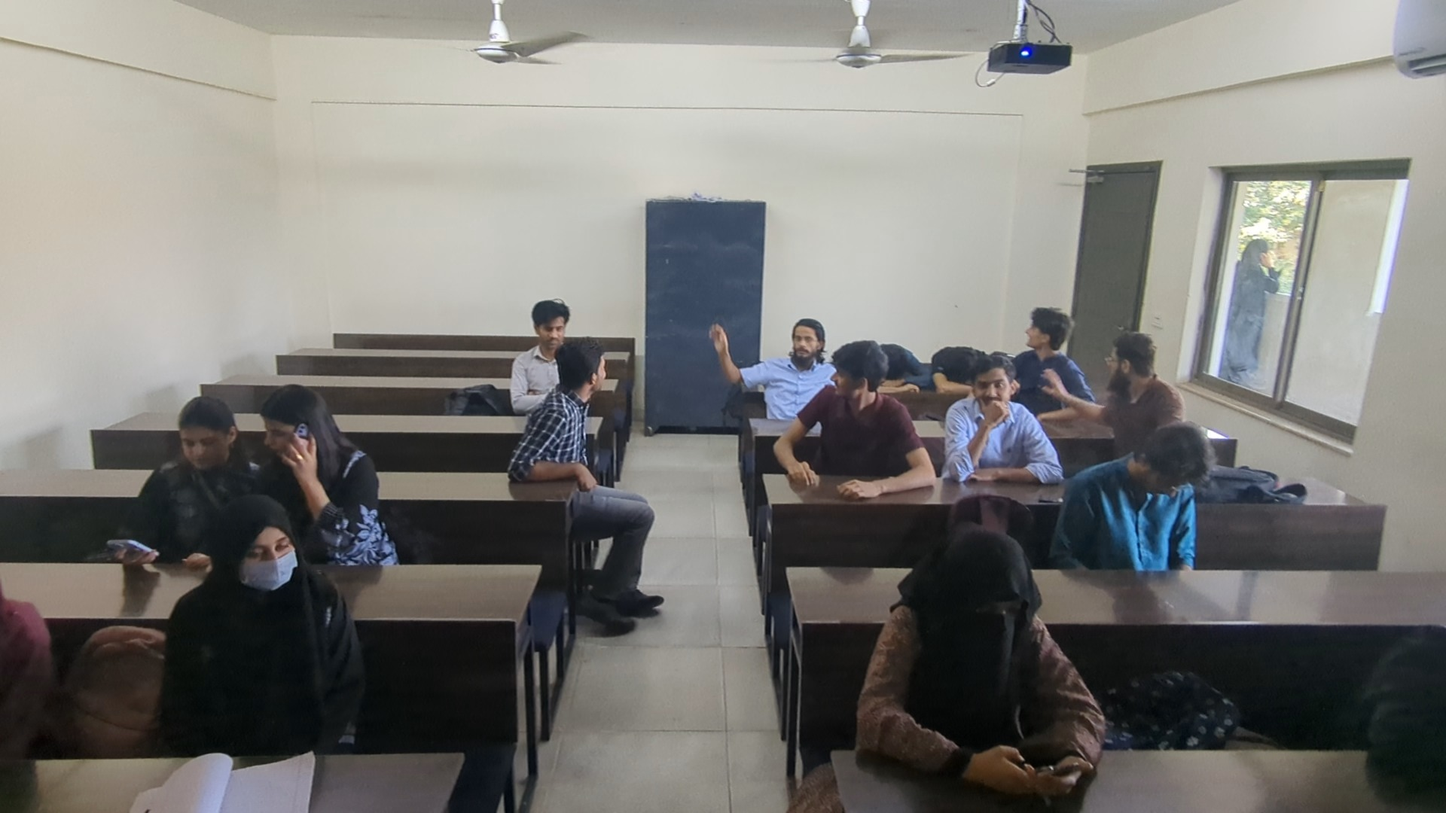handrise: (706, 308, 837, 426)
look_forward: (938, 354, 1065, 481)
sleep: (928, 336, 984, 389), (882, 333, 930, 389)
turn_head: (158, 491, 370, 742), (770, 339, 938, 499), (506, 337, 624, 476), (1045, 334, 1206, 432), (1012, 305, 1088, 399), (507, 298, 573, 398)
using_device: (839, 525, 1107, 797), (89, 398, 242, 569), (1060, 417, 1203, 570), (257, 386, 408, 527)
